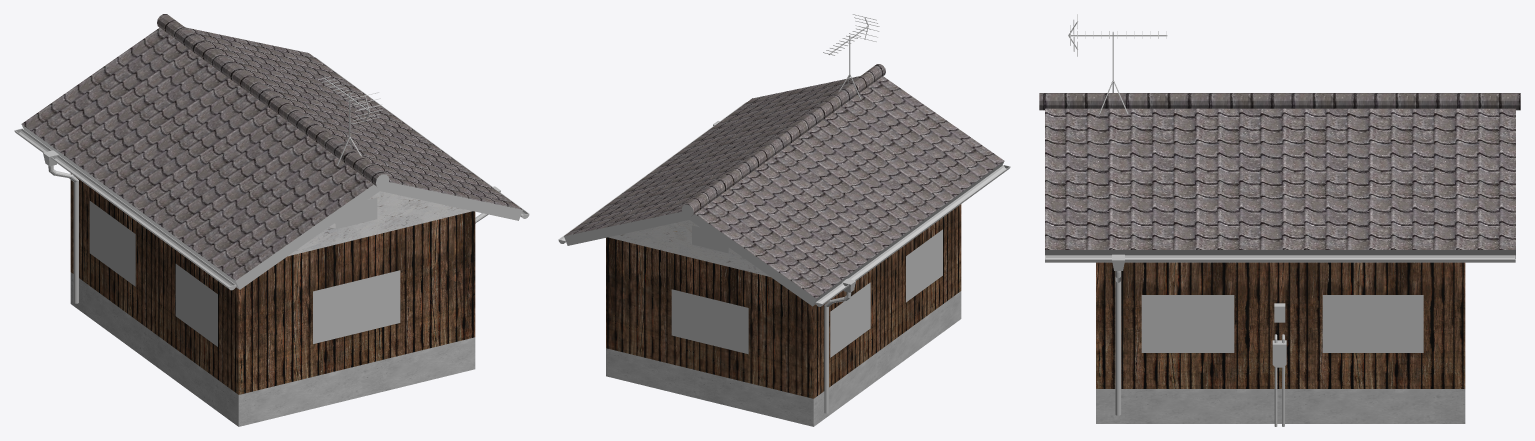
File: JapaneseHouse01.fbx
3 renders of one model, left to right at view 1: azimuth 30°, elevation 25°; view 2: azimuth 150°, elevation 25°; view 3: azimuth 270°, elevation 25°, orthographic. The views are drawn at different scales.
Visible parts, largest first — view 1: Empty_Mesh; view 2: Empty_Mesh; view 3: Empty_Mesh.
Boxes of the visible parts, x1,y1,x2,y2 form: Empty_Mesh: (14,14,529,426); Empty_Mesh: (558,14,1010,426); Empty_Mesh: (1039,14,1520,426).
Size of the model in its own units: 6.9 by 6.68 by 8.58.
